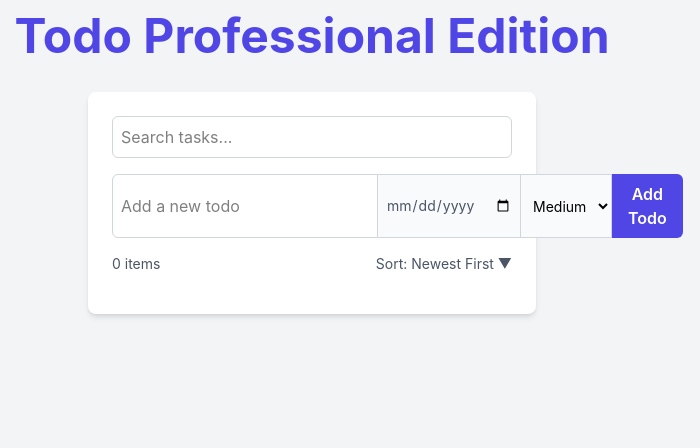
Scenario: App › filters tasks based on search query (TC-009)
Type "Buy groceries" into the field with placeholder "Add a new todo" at (245, 206), box left=112, top=174, right=378, bottom=238
Click the button "Add Todo" at (647, 206), box left=612, top=174, right=683, bottom=238
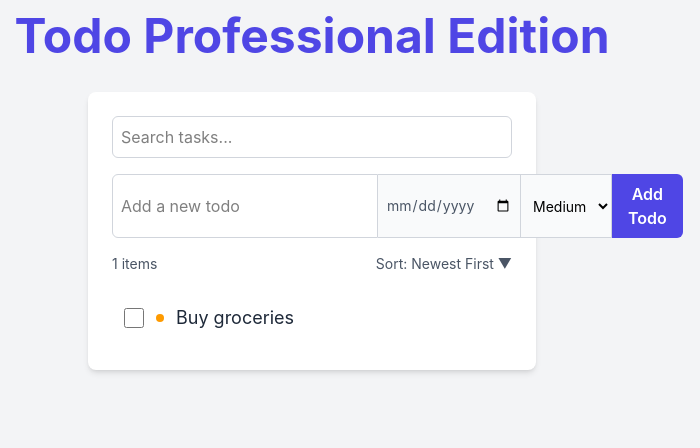
Type "Learn Vitest" into the field with placeholder "Add a new todo" at (245, 206), box left=112, top=174, right=378, bottom=238
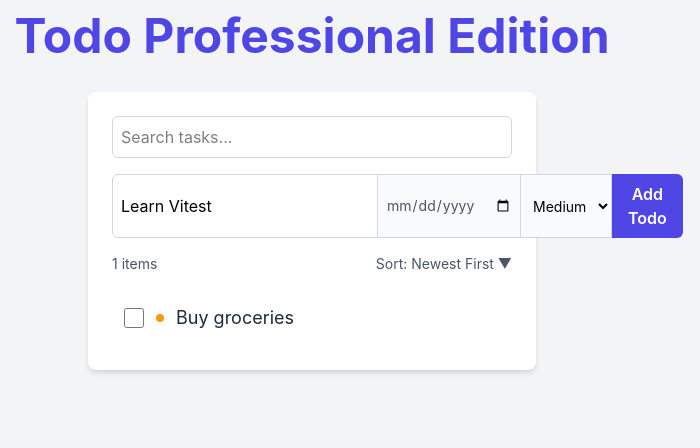
Click the button "Add Todo" at (647, 206), box left=612, top=174, right=683, bottom=238
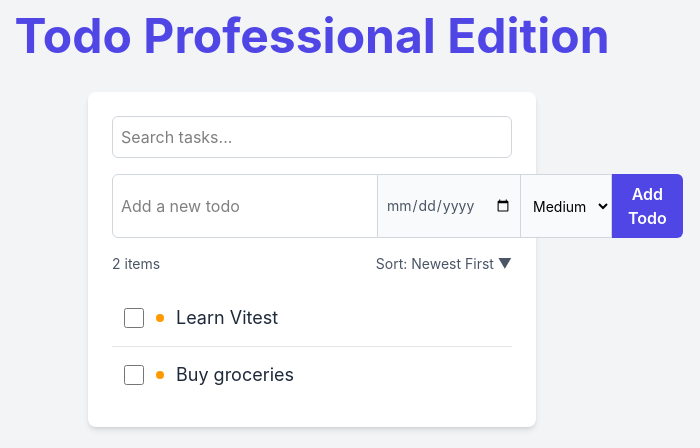
Check: the text "Buy groceries" is shown, box left=176, top=361, right=294, bottom=389
Check: the text "Learn Vitest" is shown, box left=176, top=304, right=278, bottom=332
# Search for 'Vitest'
Type "Vitest" into the field with placeholder "Search tasks..." at (312, 137), box left=112, top=116, right=512, bottom=158
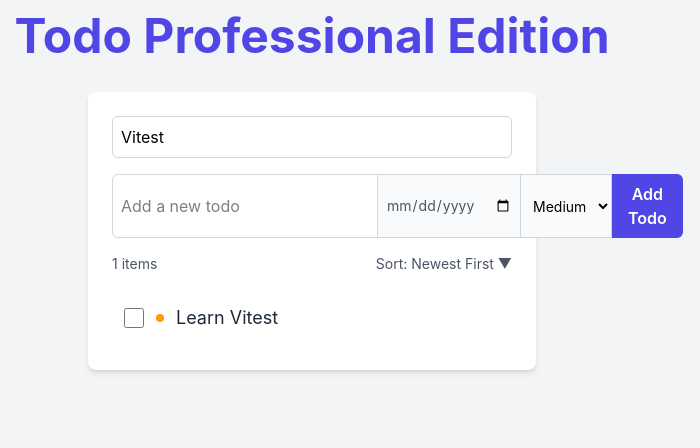
Check: the text "Learn Vitest" is shown, box left=176, top=304, right=278, bottom=332
Check: the text "Buy groceries" is gone
# Search for non-existent task
Replace the text in the field with placeholder "Search tasks..." with "Non-existent task" at (312, 137), box left=112, top=116, right=512, bottom=158
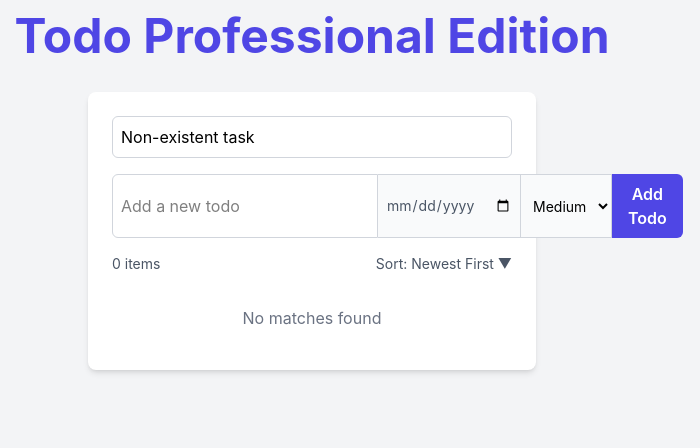
Check: the list item "No matches found" is shown, box left=243, top=308, right=382, bottom=328
Check: the text "Learn Vitest" is gone
# Clear search
Clear the field with placeholder "Search tasks..." at (312, 137), box left=112, top=116, right=512, bottom=158
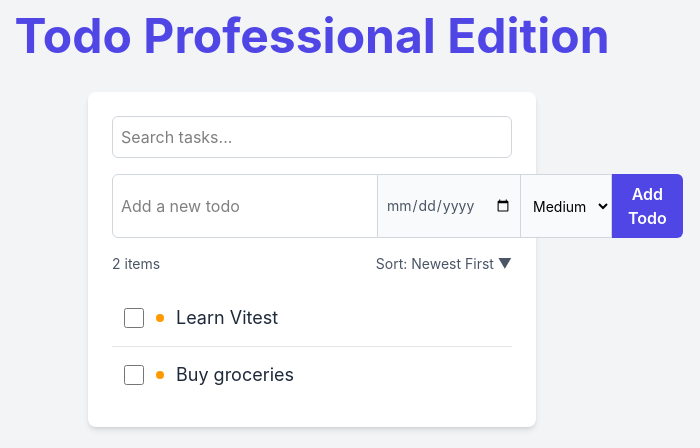
Check: the text "Buy groceries" is shown, box left=176, top=361, right=294, bottom=389
Check: the text "Learn Vitest" is shown, box left=176, top=304, right=278, bottom=332
